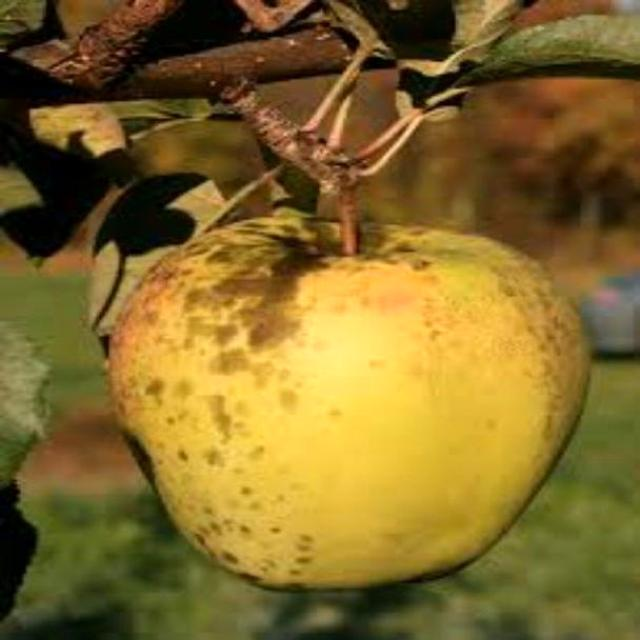BLOTCH: (91, 183, 604, 606)
